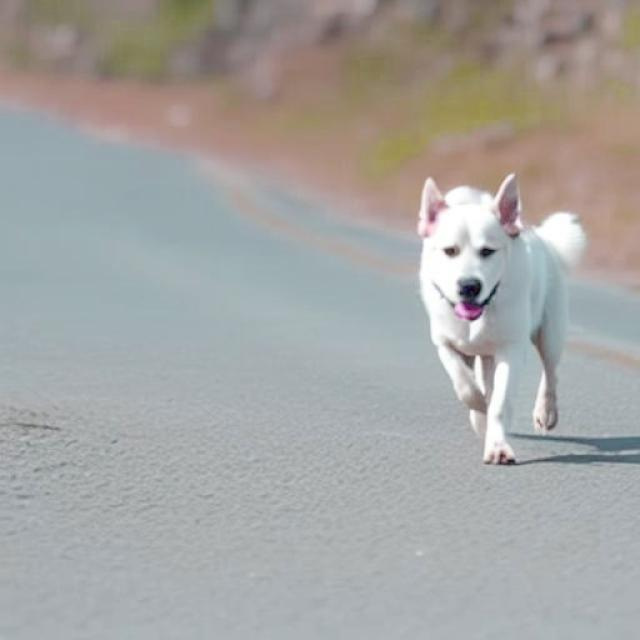Dog: (416, 173, 586, 464)
